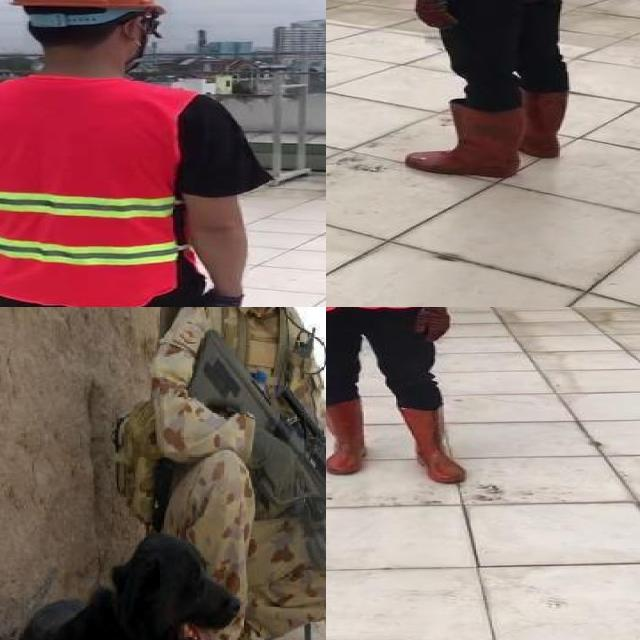boots: (407, 103, 525, 176), (398, 407, 467, 484), (512, 88, 571, 158), (326, 392, 369, 475)
hand_glove: (414, 307, 449, 343), (414, 0, 453, 27), (196, 291, 240, 307)
head_helmet: (3, 0, 168, 14)
person: (0, 0, 280, 307), (144, 307, 326, 640), (383, 0, 600, 184), (326, 307, 485, 489)
vest: (0, 78, 189, 307)
